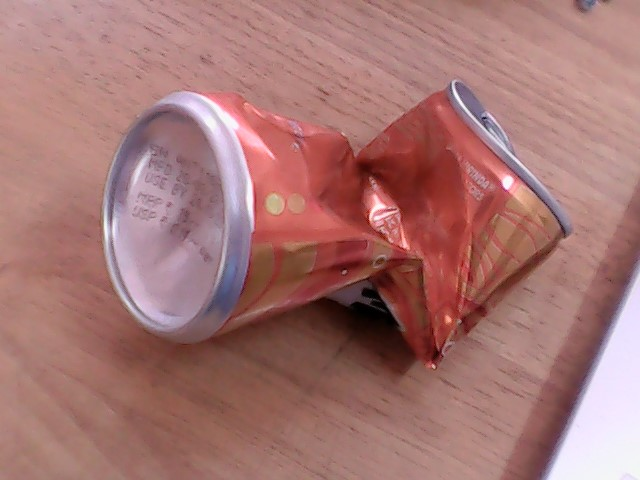Metal: (80, 95, 536, 332)
